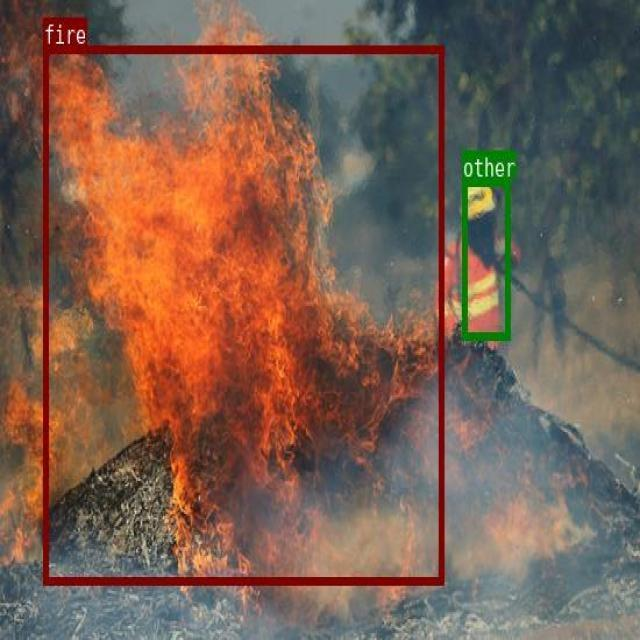fire: (42, 45, 443, 583)
